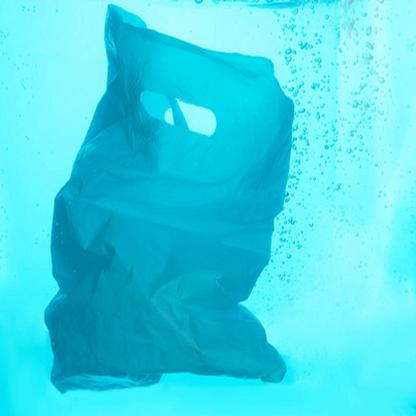plastic bag: (43, 3, 296, 393)
